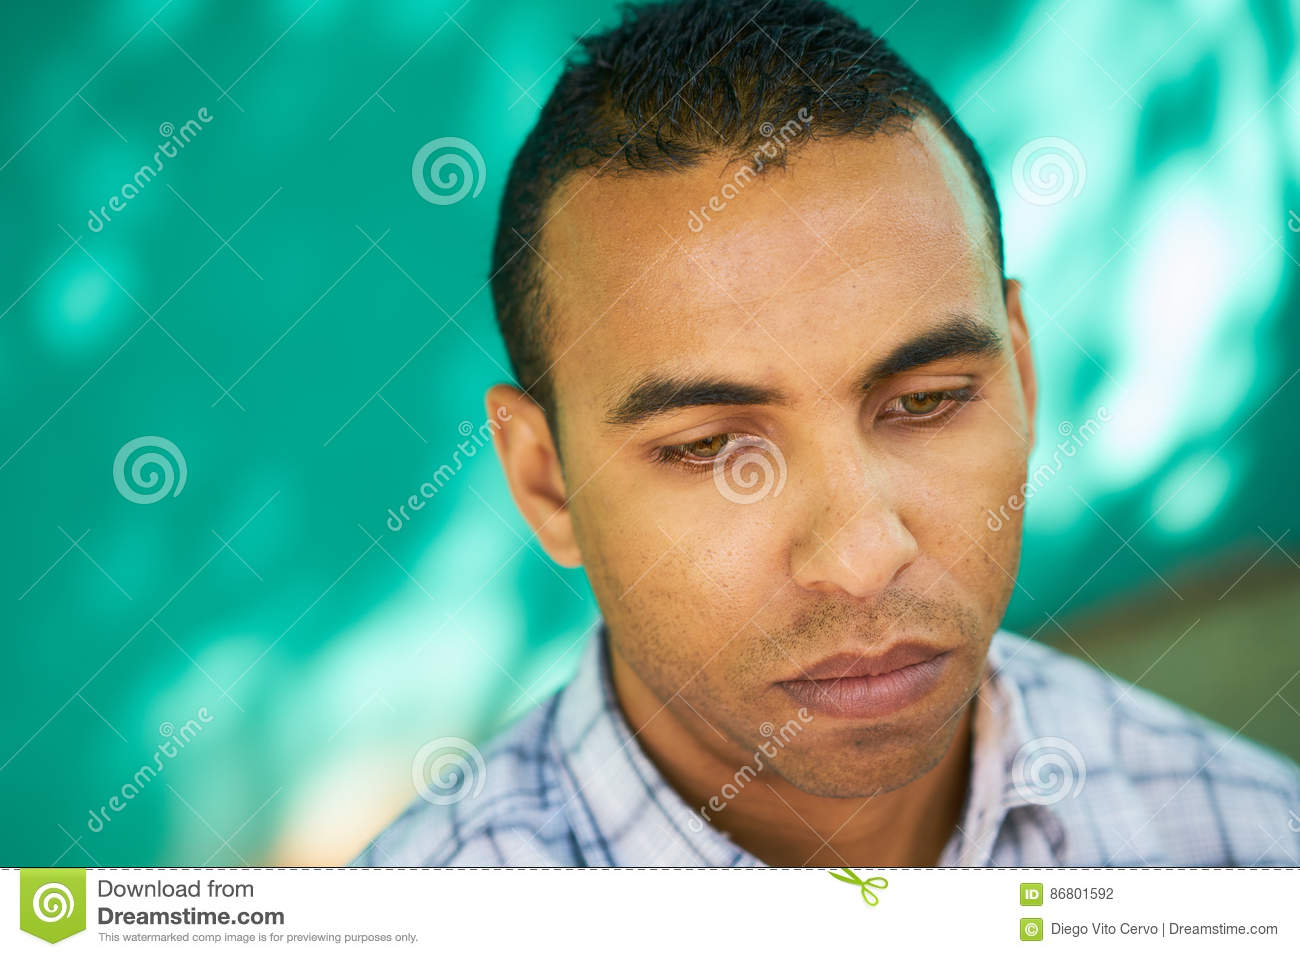NoMask: (599, 315, 1030, 791)
